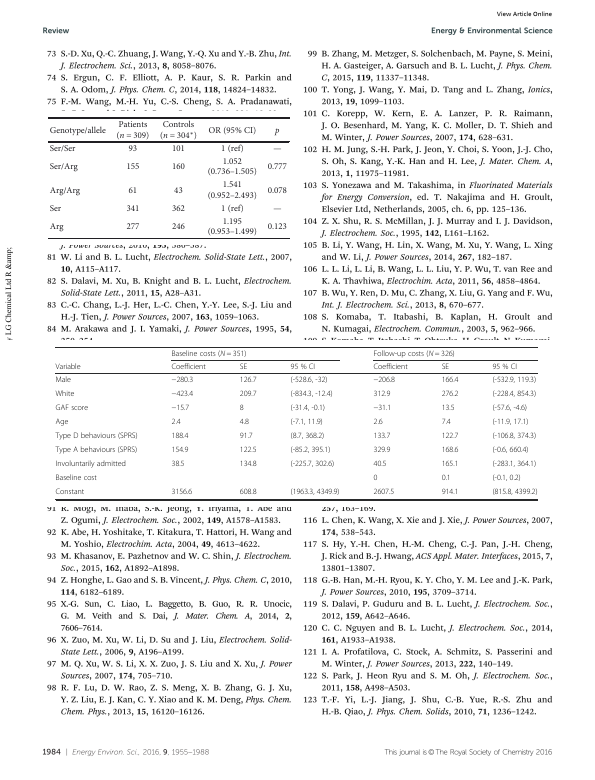borderless: (54, 345, 537, 499), (48, 116, 290, 239)
cell: (206, 157, 257, 178), (206, 180, 257, 201), (206, 217, 257, 238), (54, 431, 138, 441), (54, 445, 138, 455), (159, 120, 198, 141), (372, 349, 456, 358), (115, 120, 150, 141), (54, 459, 127, 469), (171, 349, 247, 358), (48, 125, 106, 136), (207, 125, 257, 136), (290, 487, 340, 497), (491, 487, 538, 497), (491, 375, 537, 385), (491, 389, 537, 399), (491, 431, 537, 441), (491, 459, 537, 469), (290, 459, 335, 469), (54, 473, 98, 483), (290, 389, 333, 399), (290, 445, 331, 455), (290, 375, 328, 385), (491, 417, 529, 427), (491, 445, 529, 455), (372, 362, 409, 372), (491, 403, 528, 413), (48, 185, 81, 196), (171, 362, 207, 372), (290, 403, 326, 413), (54, 403, 89, 413), (290, 431, 325, 441), (290, 417, 324, 427), (491, 473, 522, 483), (54, 487, 85, 497), (48, 162, 78, 172), (48, 144, 76, 154), (54, 362, 81, 372), (491, 362, 518, 372), (290, 362, 316, 372), (220, 144, 244, 154), (220, 204, 244, 214), (372, 375, 396, 385), (266, 185, 287, 196), (266, 222, 287, 233), (171, 375, 194, 385), (171, 389, 194, 399), (372, 487, 395, 497), (171, 487, 193, 497), (266, 162, 287, 172), (54, 389, 75, 399), (372, 403, 392, 413), (372, 389, 391, 399), (171, 403, 190, 413), (372, 431, 391, 441), (372, 445, 391, 455), (54, 375, 72, 385), (239, 375, 257, 385), (441, 375, 459, 385), (239, 389, 257, 399), (441, 389, 459, 399), (171, 431, 189, 441), (441, 431, 459, 441), (171, 445, 189, 455), (239, 445, 257, 455), (441, 445, 459, 455), (239, 459, 257, 469), (441, 459, 459, 469), (239, 487, 257, 497), (441, 487, 459, 497), (48, 222, 64, 233), (125, 222, 140, 233), (171, 222, 186, 233), (171, 144, 186, 154), (125, 162, 140, 172), (171, 162, 186, 172), (125, 204, 140, 214), (171, 204, 186, 214), (54, 417, 69, 427), (239, 431, 254, 441), (372, 459, 387, 469), (48, 204, 62, 214), (441, 403, 455, 413), (171, 459, 185, 469), (127, 185, 138, 196), (127, 144, 138, 154), (173, 185, 183, 196), (171, 417, 182, 427), (239, 417, 250, 427), (372, 417, 383, 427), (441, 417, 452, 427), (441, 473, 452, 483), (239, 362, 248, 372), (441, 362, 450, 372), (239, 403, 245, 413), (372, 473, 378, 483), (274, 127, 280, 136), (272, 148, 282, 152), (272, 208, 282, 212)
